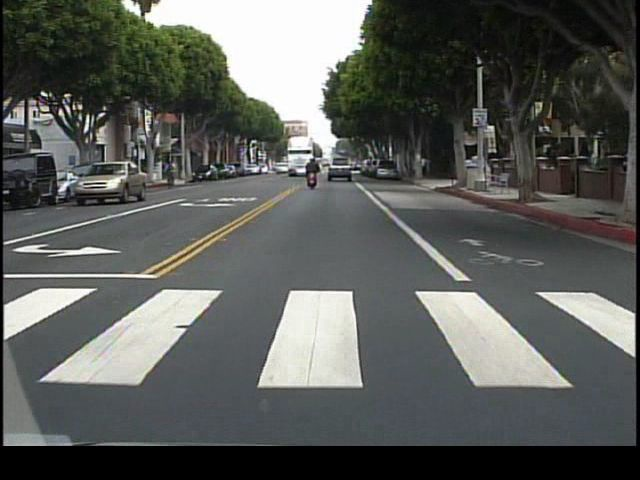person: (305, 154, 323, 195), (158, 162, 178, 190), (425, 157, 433, 185), (422, 158, 427, 181)
